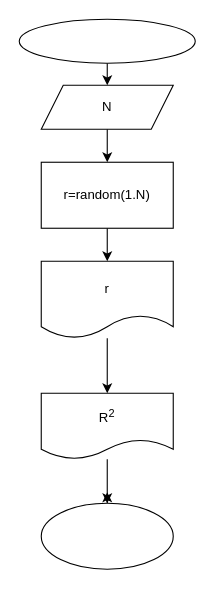
Some shapes in this 215 by 589 pixel diagram are drawn without their labels. The centre of each missing label's shape, as x and y in pixels:
"конец" goes at pixel 106 535.
"начало" goes at pixel 106 40.
